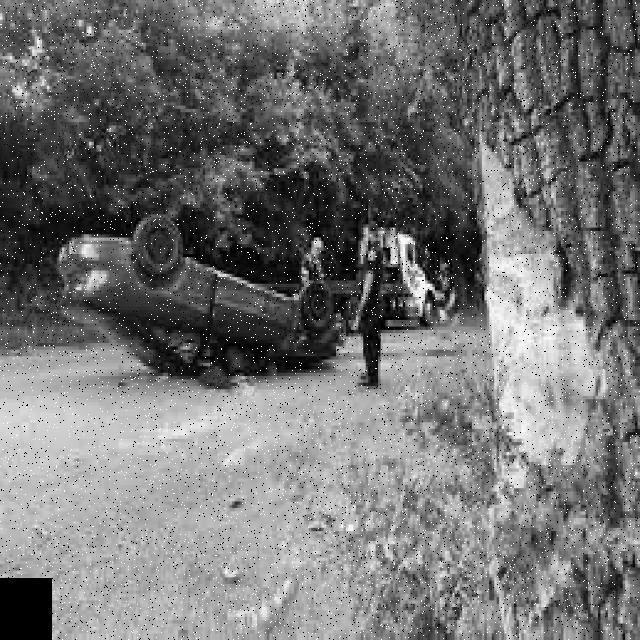accident: (55, 206, 349, 388)
vehicle: (307, 204, 441, 332)
